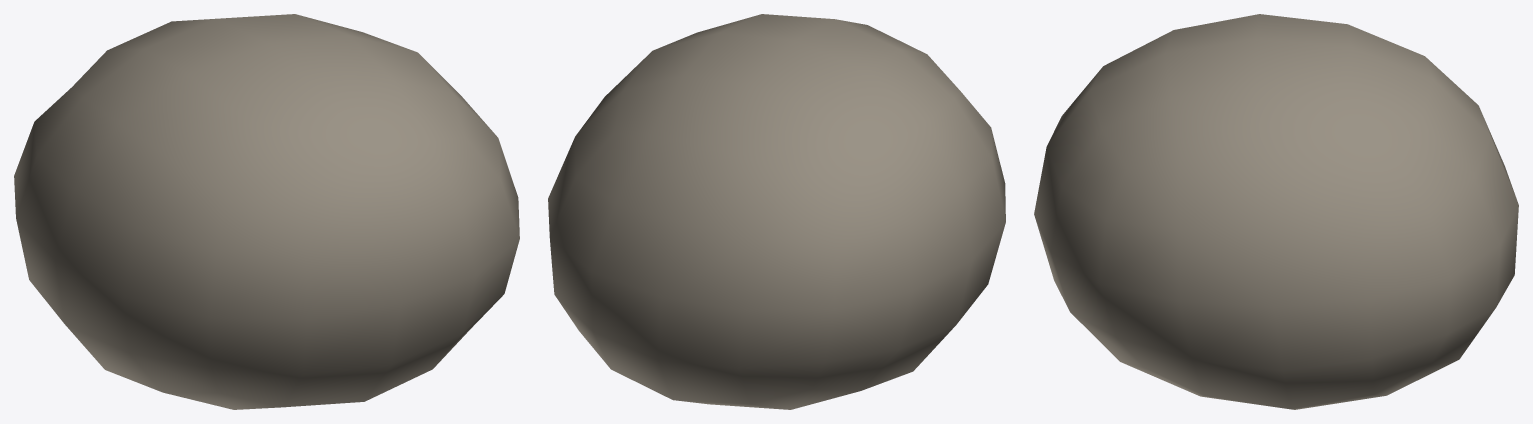
Rendered from rock_small.glb.
The picture shows the model from 3 angles, left to right: view 1: azimuth 30°, elevation 25°; view 2: azimuth 150°, elevation 25°; view 3: azimuth 270°, elevation 25°; orthographic projection. The views are drawn at different scales.
Parts seen in each view (by area): view 1: body; view 2: body; view 3: body.
Boxes of the visible parts, left/top/right/bottom form: body: left=14, top=14, right=519, bottom=409; body: left=548, top=14, right=1005, bottom=409; body: left=1034, top=14, right=1518, bottom=409.
Size of the model in its own units: 0.5856 by 0.465 by 0.6138.
